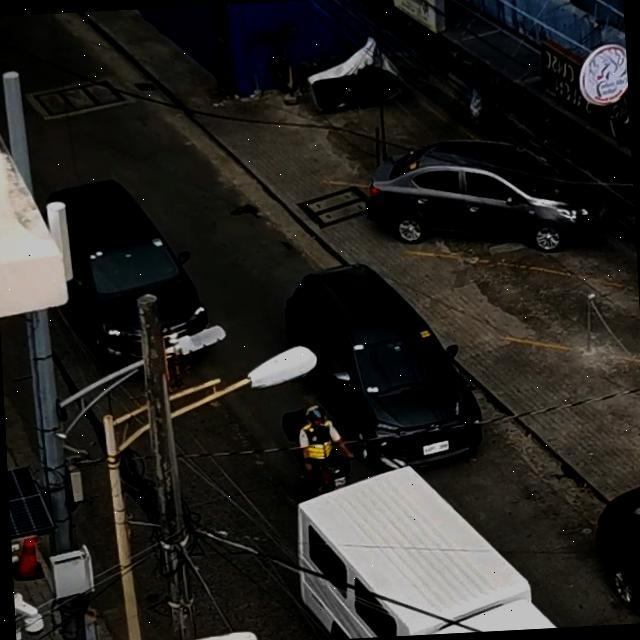Truck: (263, 439, 616, 640)
